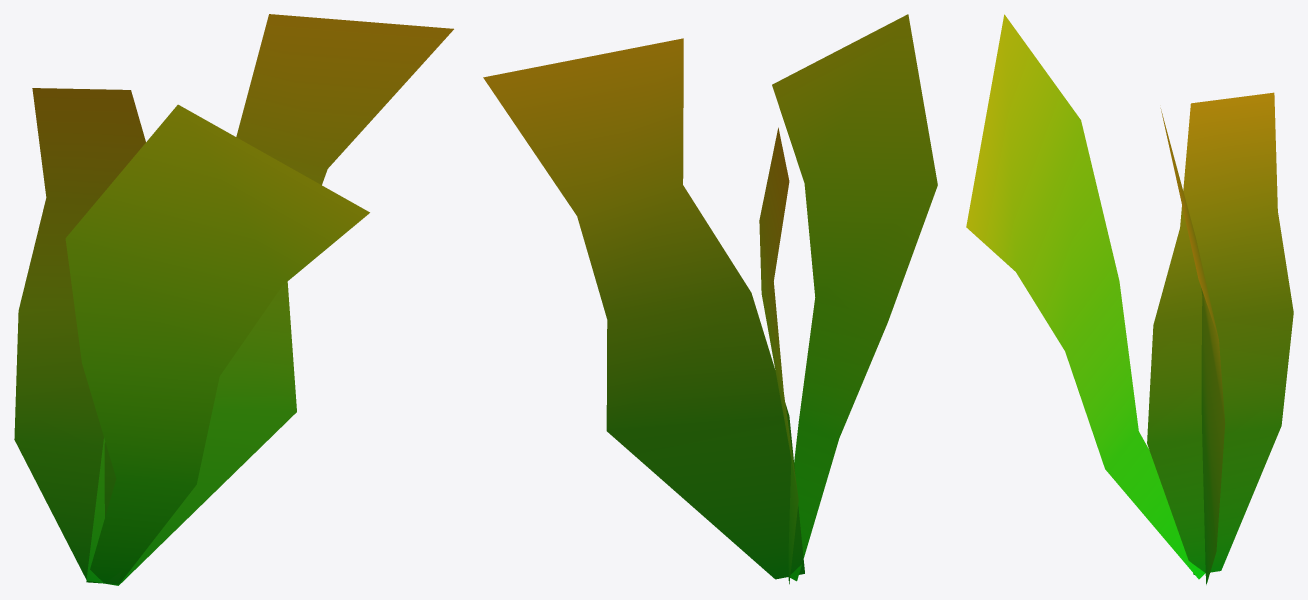
The model's file is Ocean Seaweed_LOD0_Var5_sdDgS.fbx.
The picture shows the model from 3 angles, left to right: view 1: azimuth 30°, elevation 25°; view 2: azimuth 150°, elevation 25°; view 3: azimuth 270°, elevation 25°; orthographic projection. The views are drawn at different scales.
Visible parts, largest first — view 1: _za3t_Var5_LOD0; view 2: _za3t_Var5_LOD0; view 3: _za3t_Var5_LOD0.
Part boxes in pixels (x1,y1,x2,y2): _za3t_Var5_LOD0: (14, 14, 453, 585); _za3t_Var5_LOD0: (483, 14, 937, 584); _za3t_Var5_LOD0: (966, 14, 1293, 584).
Bounding box in the file's own units: 23.61 × 28.54 × 15.38.
